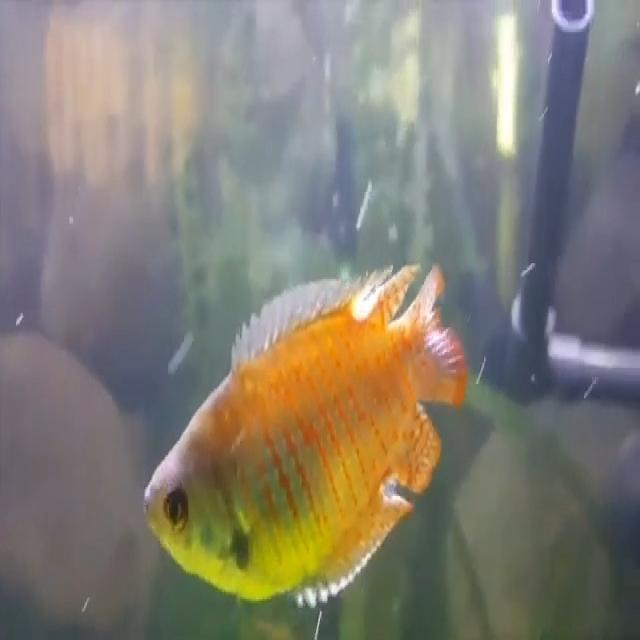fish: (142, 262, 468, 602)
